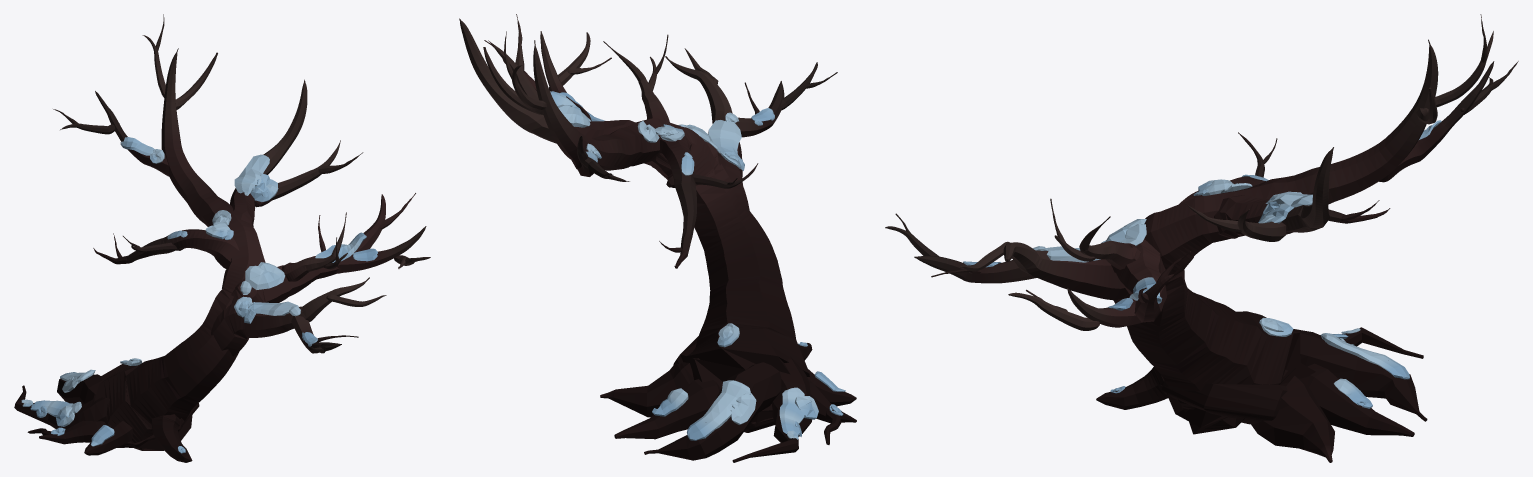
The model's file is Tree-snow.fbx.
3 views of the same model, side by side, from view 1: azimuth 30°, elevation 25°; view 2: azimuth 150°, elevation 25°; view 3: azimuth 270°, elevation 25° (orthographic). The views are drawn at different scales.
Parts seen in each view (by area): view 1: Paint, Snow; view 2: Paint, Snow; view 3: Paint, Snow.
Part boxes in pixels (x1=…): Paint: x1=14, y1=14, x2=430, y2=462; Snow: x1=21, y1=137, x2=377, y2=453; Paint: x1=459, y1=14, x2=856, y2=462; Snow: x1=550, y1=91, x2=845, y2=440; Paint: x1=885, y1=14, x2=1518, y2=462; Snow: x1=963, y1=120, x2=1441, y2=408.
Size of the model in its own units: 10.29 by 9.95 by 11.75.
